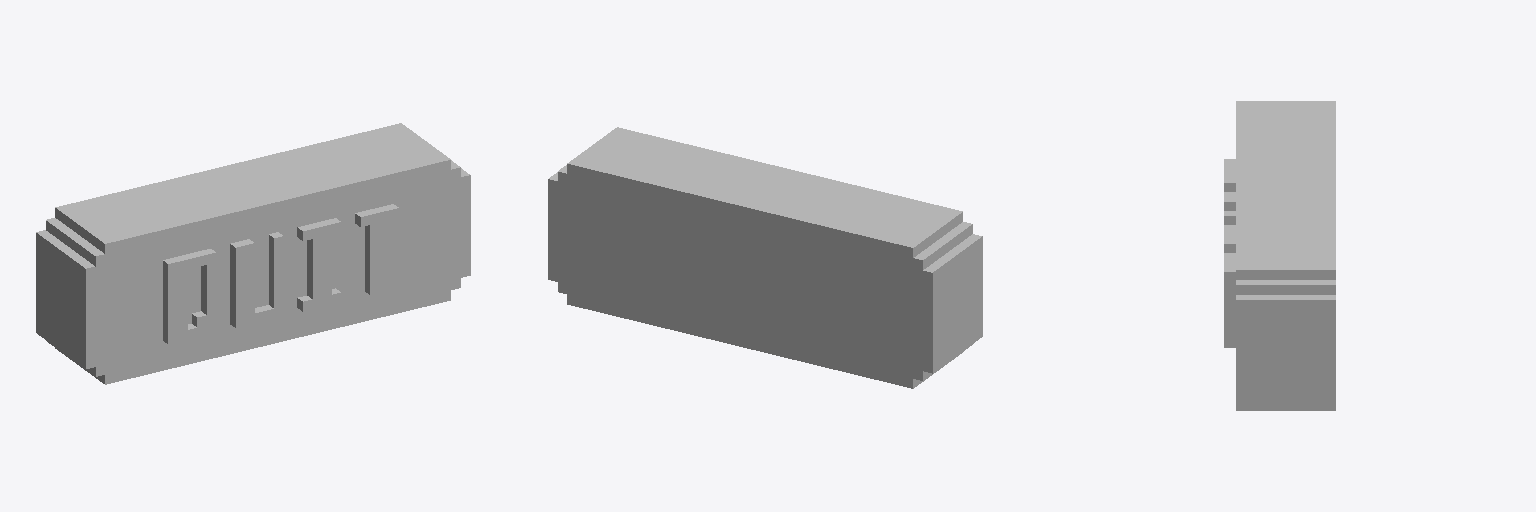
Rendered from Quit.obj.
The picture shows the model from 3 angles: view 1: azimuth 30°, elevation 25°; view 2: azimuth 150°, elevation 25°; view 3: azimuth 270°, elevation 25°; orthographic projection.
Parts seen in each view (by area): view 1: object 1; view 2: object 1; view 3: object 1.
Boxes of the visible parts, box(x1,y1,x2,y2) form: object 1: box(36, 123, 470, 384); object 1: box(548, 127, 982, 388); object 1: box(1224, 101, 1335, 410).
Size of the model in its own units: 4 by 1.4 by 1.